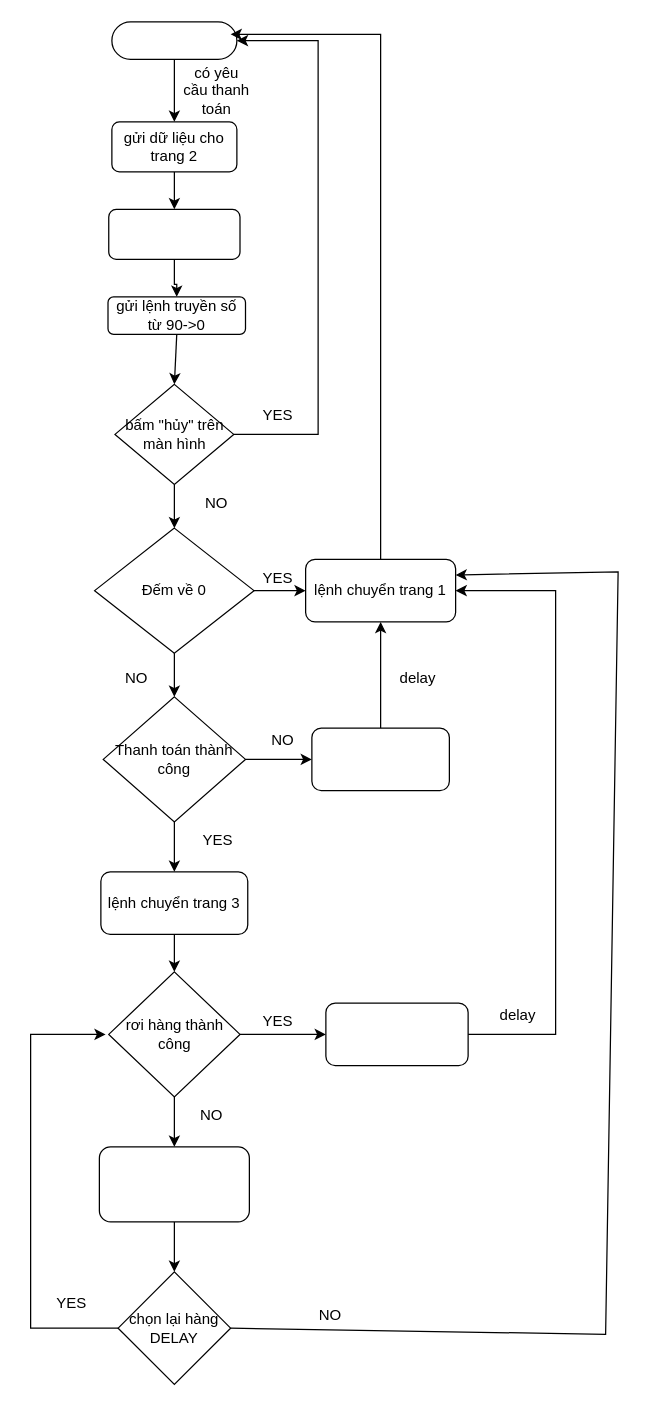
Some shapes in this 650 by 1406 pixel diagram are drawn without their labels. Here are the shapes that lost their labels. From the top down, the centre of each, then its label:
At point (174, 40): "Trang 1".
At point (174, 233): "lệnh chuyển trang 2".
At point (380, 759): "lệnh chuyển trang 4".
At point (396, 1034): "lệnh chuyển trang 5".
At point (173, 1184): "lệnh chuyển trang 6".
